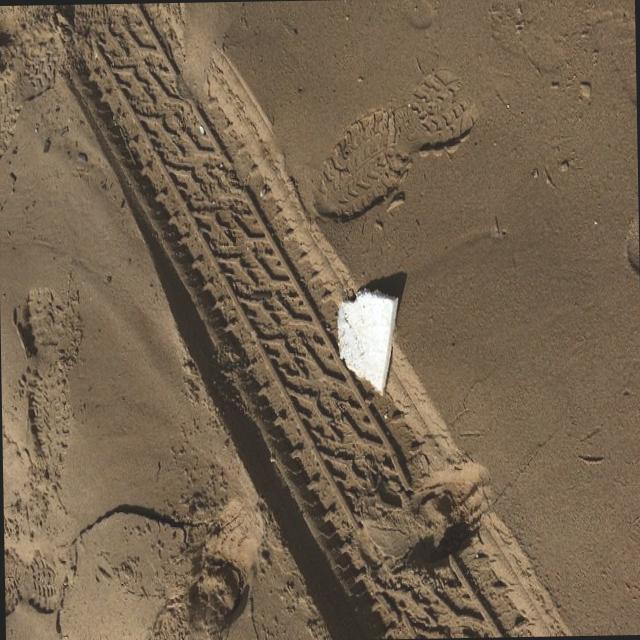Trash: (332, 284, 402, 398)
